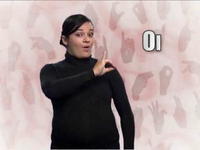oi: (96, 51, 118, 76)
